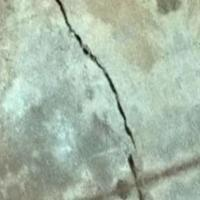crack: (51, 0, 172, 197)
